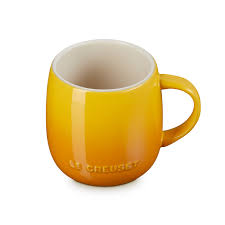mug: (39, 37, 210, 193)
